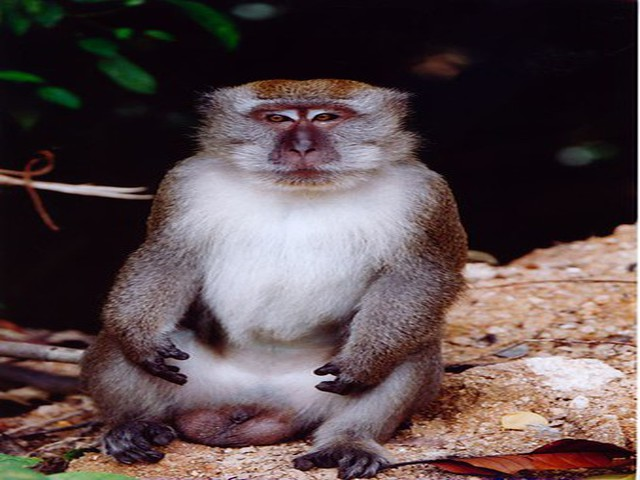Monkey: (85, 77, 462, 478)
